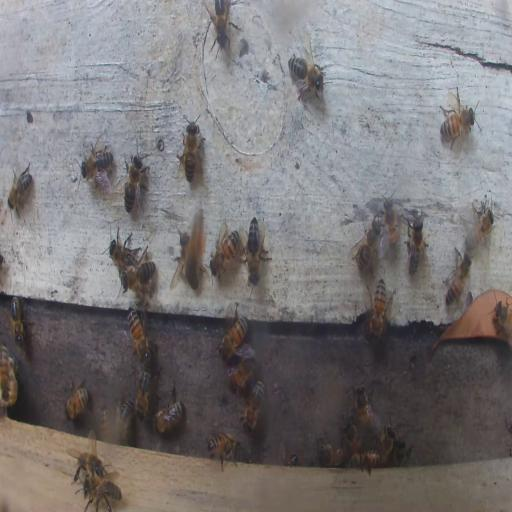nonpollenbee: (122, 142, 150, 216), (288, 43, 324, 100), (176, 112, 204, 184), (78, 135, 114, 188), (245, 215, 270, 287), (79, 474, 122, 512), (210, 225, 241, 276), (153, 384, 184, 434), (403, 214, 427, 276), (444, 249, 471, 304), (350, 218, 377, 273), (438, 102, 476, 141), (106, 228, 138, 272), (206, 431, 242, 470), (368, 276, 389, 342), (219, 312, 247, 360), (8, 163, 34, 214), (242, 376, 264, 436), (124, 259, 155, 298), (128, 309, 150, 363), (465, 210, 494, 250), (208, 0, 232, 48), (227, 355, 256, 392), (379, 197, 398, 250), (0, 346, 16, 408), (65, 383, 90, 422), (354, 384, 376, 428), (72, 449, 102, 477), (491, 300, 511, 340), (136, 364, 150, 420), (378, 424, 398, 462), (117, 397, 133, 444), (318, 440, 346, 466), (342, 421, 362, 455), (350, 450, 380, 470), (12, 296, 24, 346), (393, 439, 412, 465), (100, 404, 109, 435), (284, 452, 298, 466)
pollenbee: (182, 203, 207, 282)
